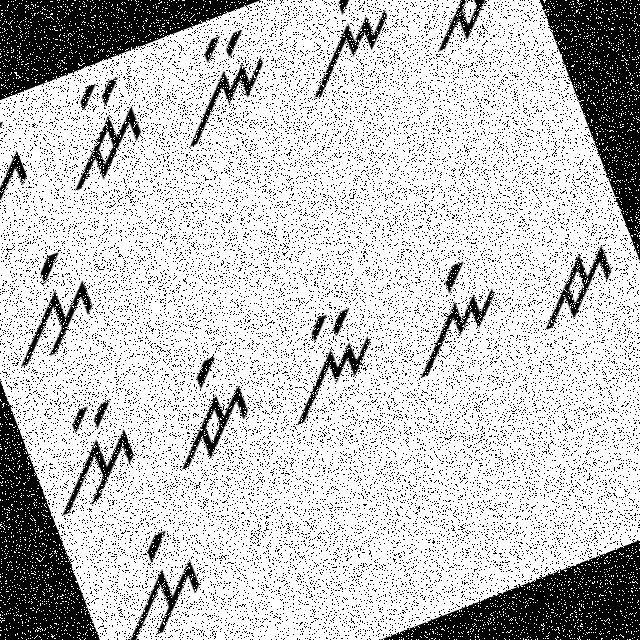ja: (518, 233, 636, 345), (414, 0, 526, 61)
jan: (36, 68, 163, 200)
jang: (136, 341, 264, 480)
nyan: (258, 296, 396, 434), (152, 19, 286, 150)
nyang: (380, 245, 520, 382), (273, 0, 416, 105)
san: (25, 386, 154, 524), (0, 106, 53, 243)
sang: (0, 232, 117, 372), (89, 516, 221, 639)
